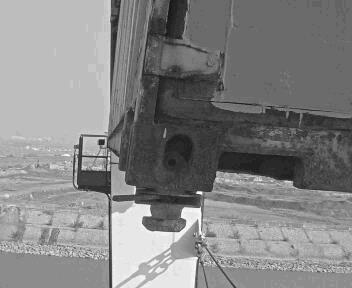twist_lock_1: (126, 185, 208, 240)
